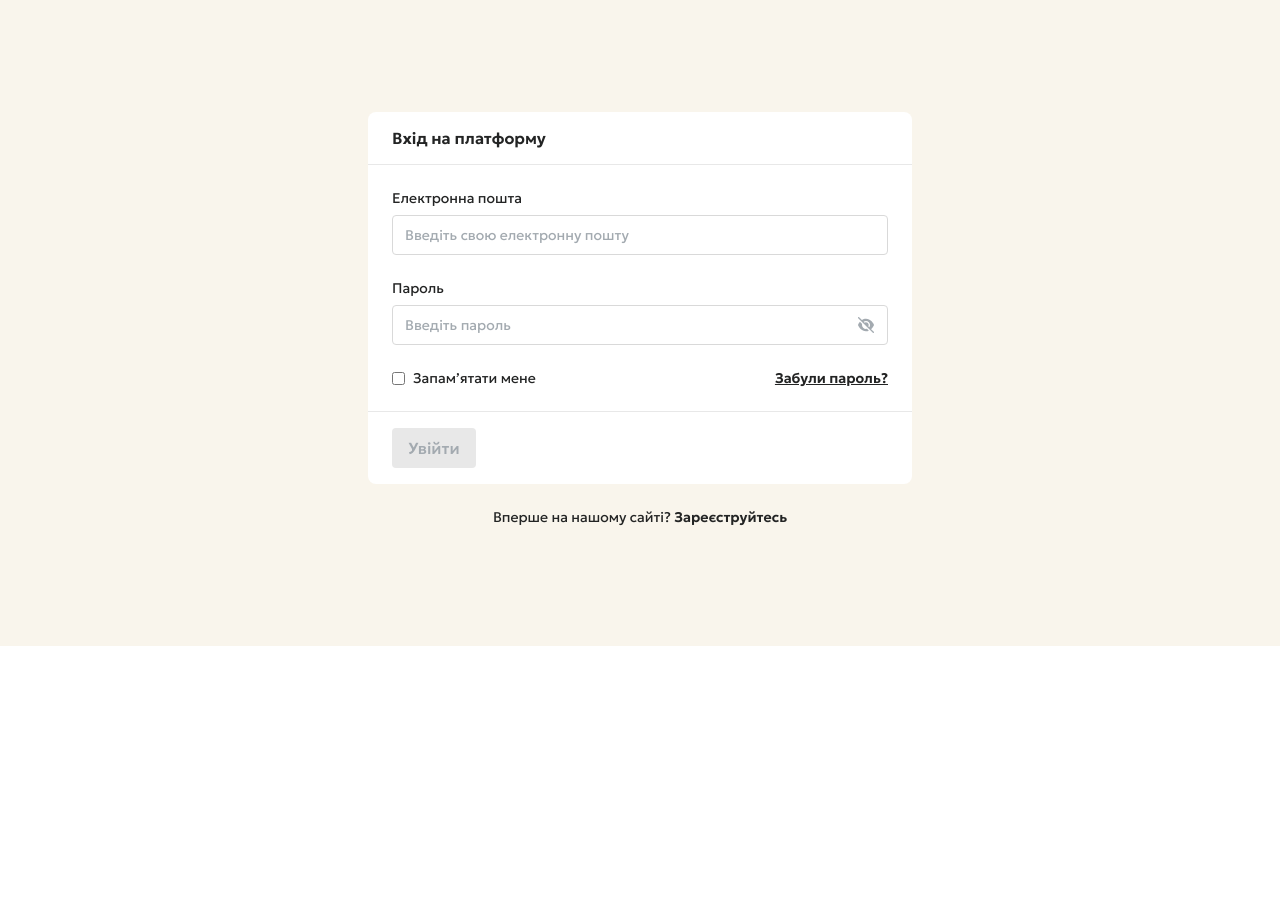
it: Login page › shows a message when the login fails: {"name":"ApiError","status":0,"fieldErrors":{},"retryAfter":null}
Type "founder@example.com" into the field labelled "Електронна пошта". click: [640, 235]
box: [392,215,888,255]
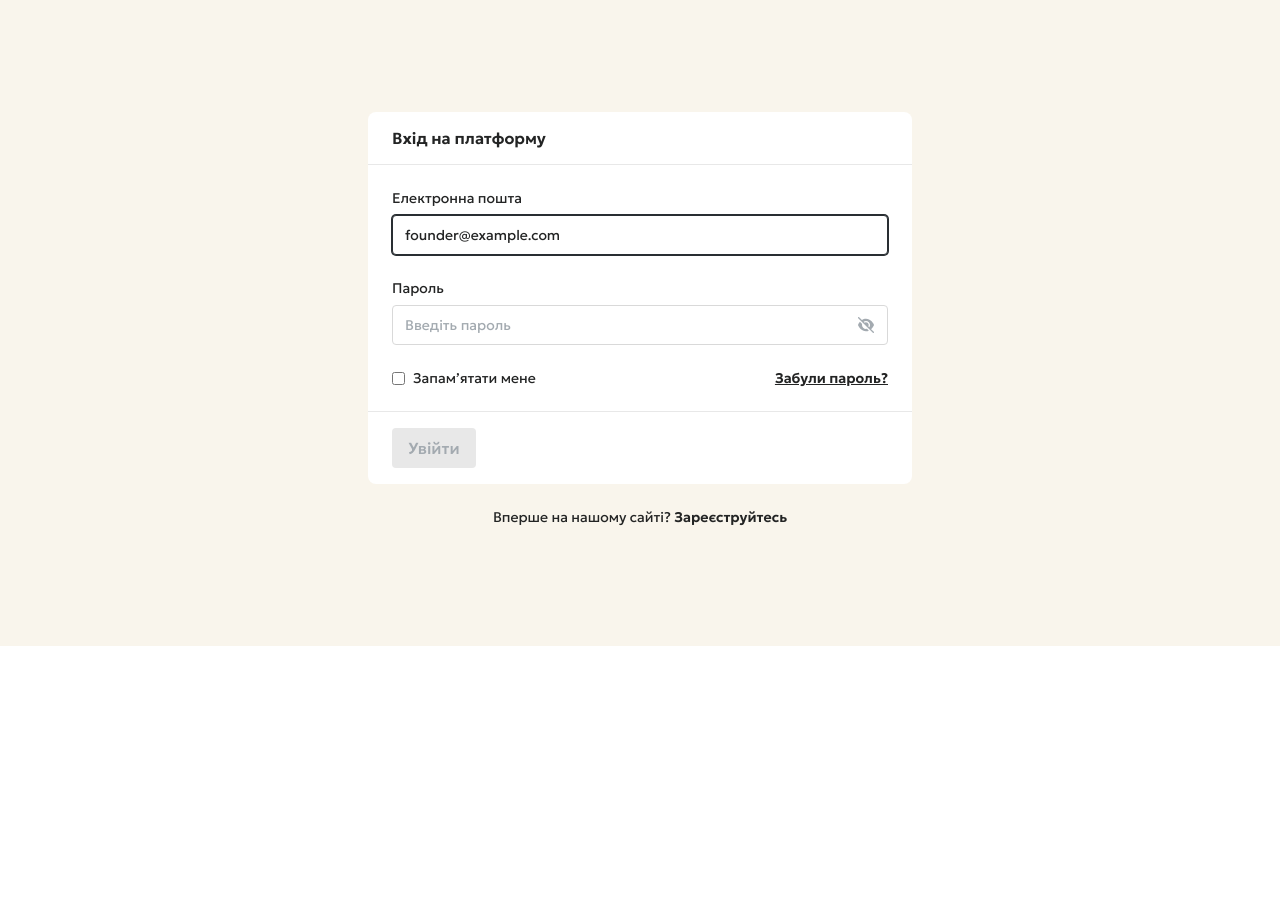
Type "secret" into the password field labelled "Пароль". click: [640, 325]
box: [392,305,888,345]
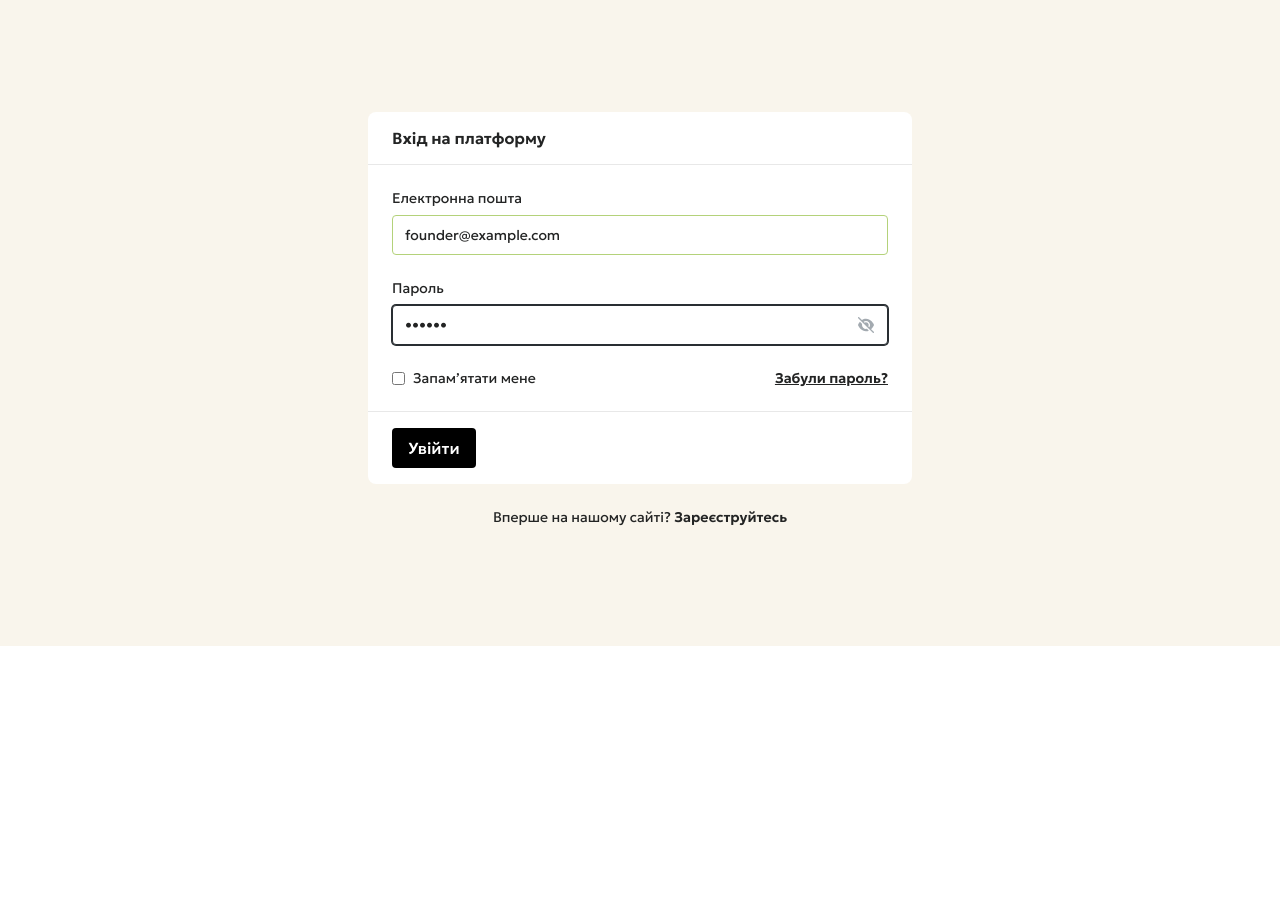
Click the button "Увійти". click: [434, 448]
box: [392,428,476,468]
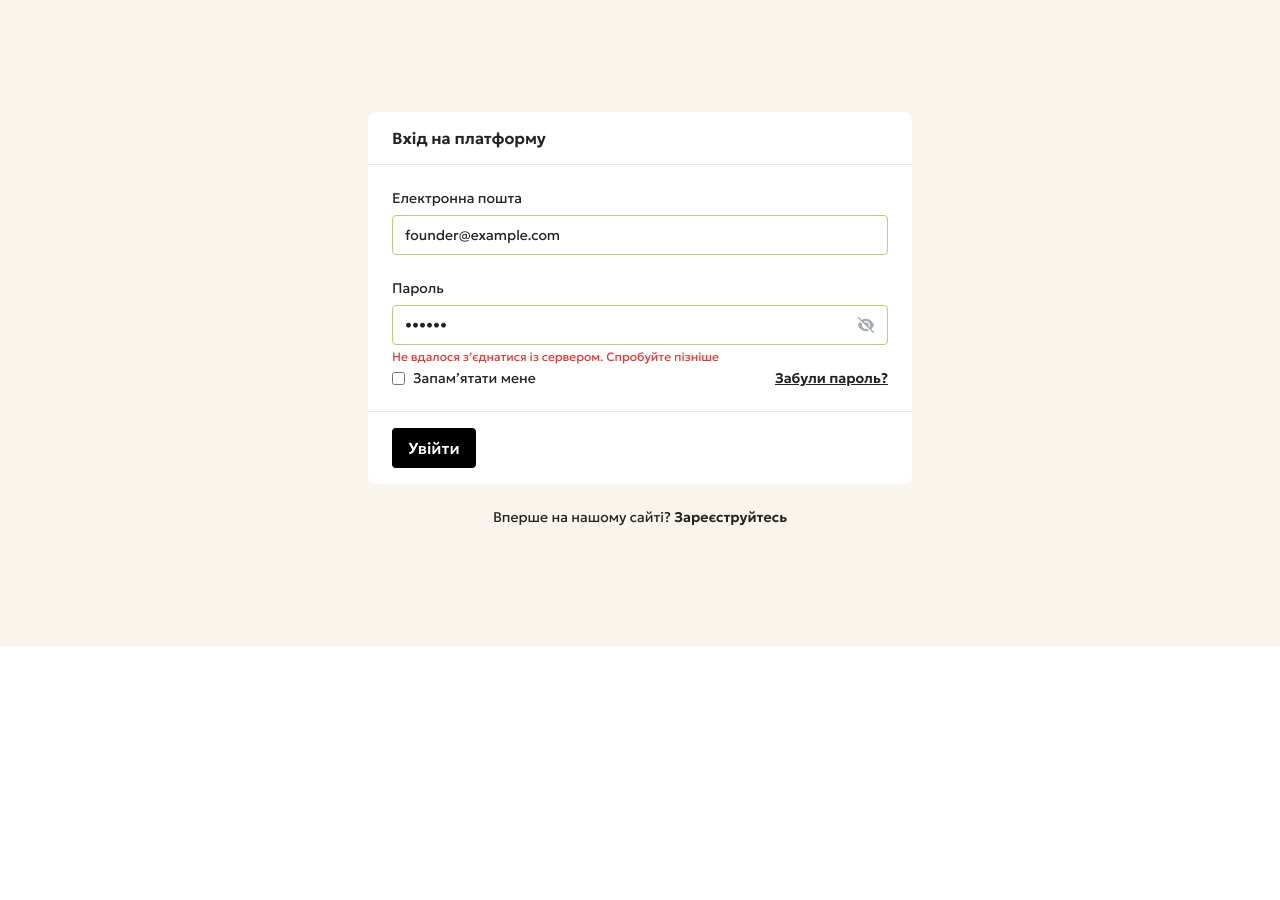
Expected: the text "Не вдалося з’єднатися із сервером. Спробуйте пізніше" is shown, [392,349,719,365]
